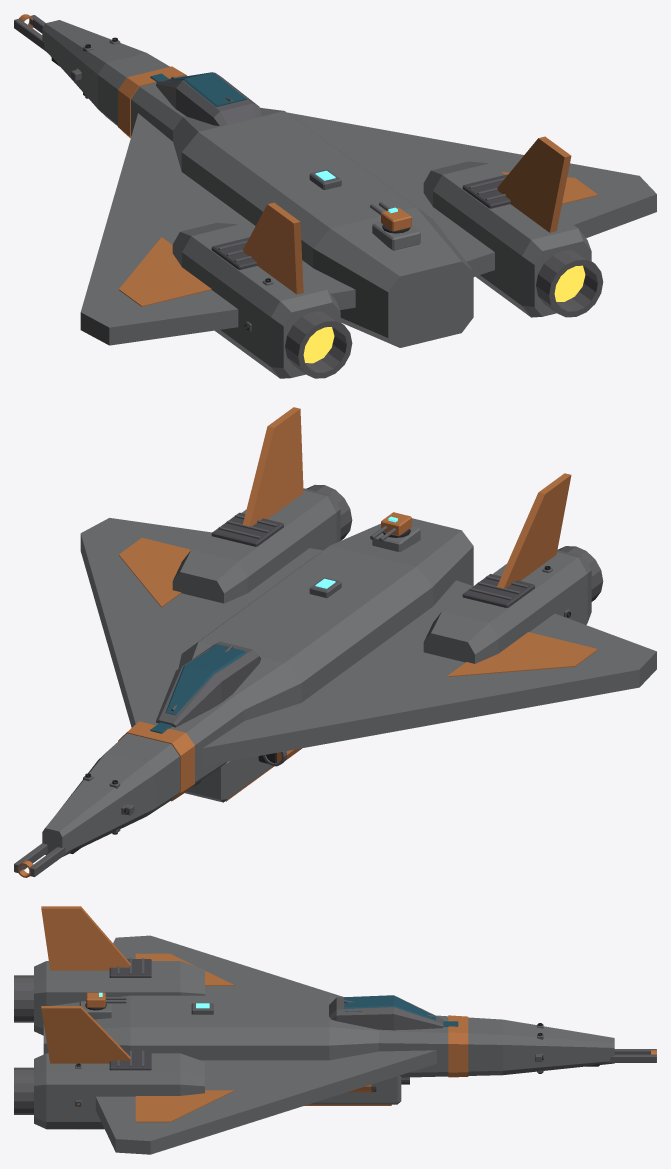
File: mars_assault_t4.glb
The picture shows the model from 3 angles, top to bottom: view 1: azimuth 30°, elevation 25°; view 2: azimuth 150°, elevation 25°; view 3: azimuth 270°, elevation 25°; orthographic projection. The views are drawn at different scales.
Visible parts, largest first — view 1: FleetHull, mesh_pd_yaw_0; view 2: FleetHull; view 3: FleetHull.
Boxes of the visible parts, x1,y1,x2,y2 form: FleetHull: [14, 14, 656, 378]; mesh_pd_yaw_0: [381, 208, 411, 231]; FleetHull: [14, 407, 656, 877]; FleetHull: [14, 906, 656, 1154].
Size of the model in its own units: 19.6 by 6.22 by 25.9.
